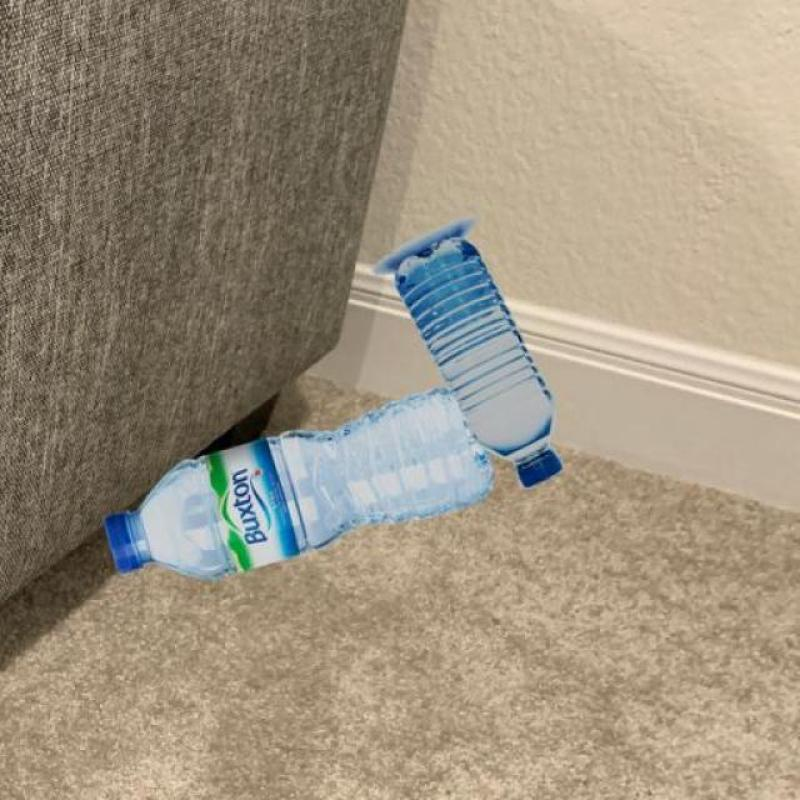botella: (106, 390, 496, 584), (395, 230, 570, 488)
